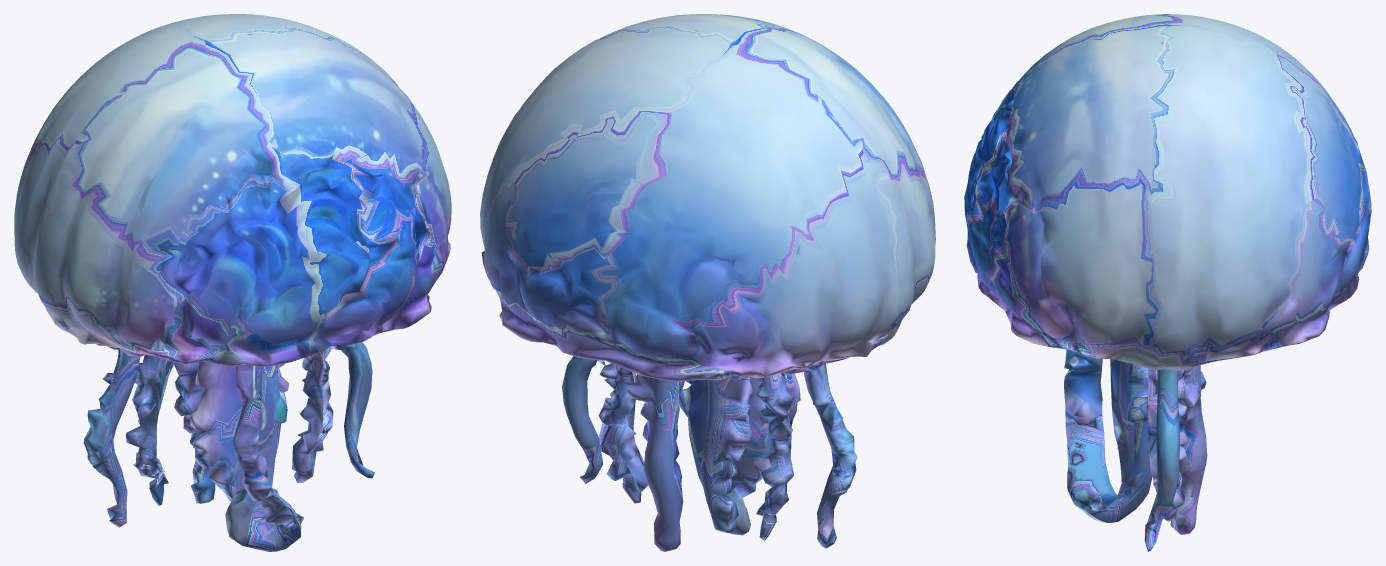
Rendered from jellyfish.glb.
3 views of the same model, side by side, from view 1: azimuth 30°, elevation 25°; view 2: azimuth 150°, elevation 25°; view 3: azimuth 270°, elevation 25° (orthographic). The views are drawn at different scales.
Visible parts, largest first — view 1: tripo_node_713f1b96-b934-46dd-8756-e5a2bfcd9f4d; view 2: tripo_node_713f1b96-b934-46dd-8756-e5a2bfcd9f4d; view 3: tripo_node_713f1b96-b934-46dd-8756-e5a2bfcd9f4d.
Part boxes in pixels (box(x1,y1,x2,y2)): tripo_node_713f1b96-b934-46dd-8756-e5a2bfcd9f4d: box(14, 14, 451, 551); tripo_node_713f1b96-b934-46dd-8756-e5a2bfcd9f4d: box(480, 14, 935, 551); tripo_node_713f1b96-b934-46dd-8756-e5a2bfcd9f4d: box(964, 14, 1371, 551).
Bounding box in the file's own units: 0.8095 × 0.998 × 0.7618.
Materials: 1 (1 with a texture image).
